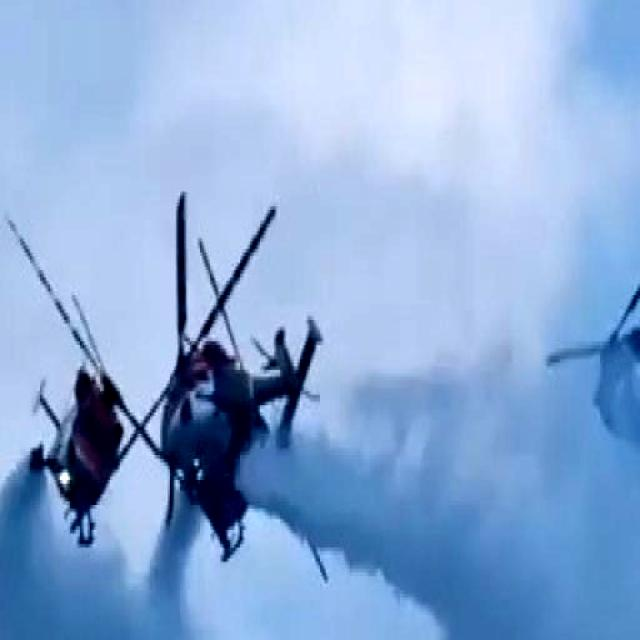drone: (158, 268, 334, 498), (19, 244, 141, 549), (545, 188, 640, 471)
